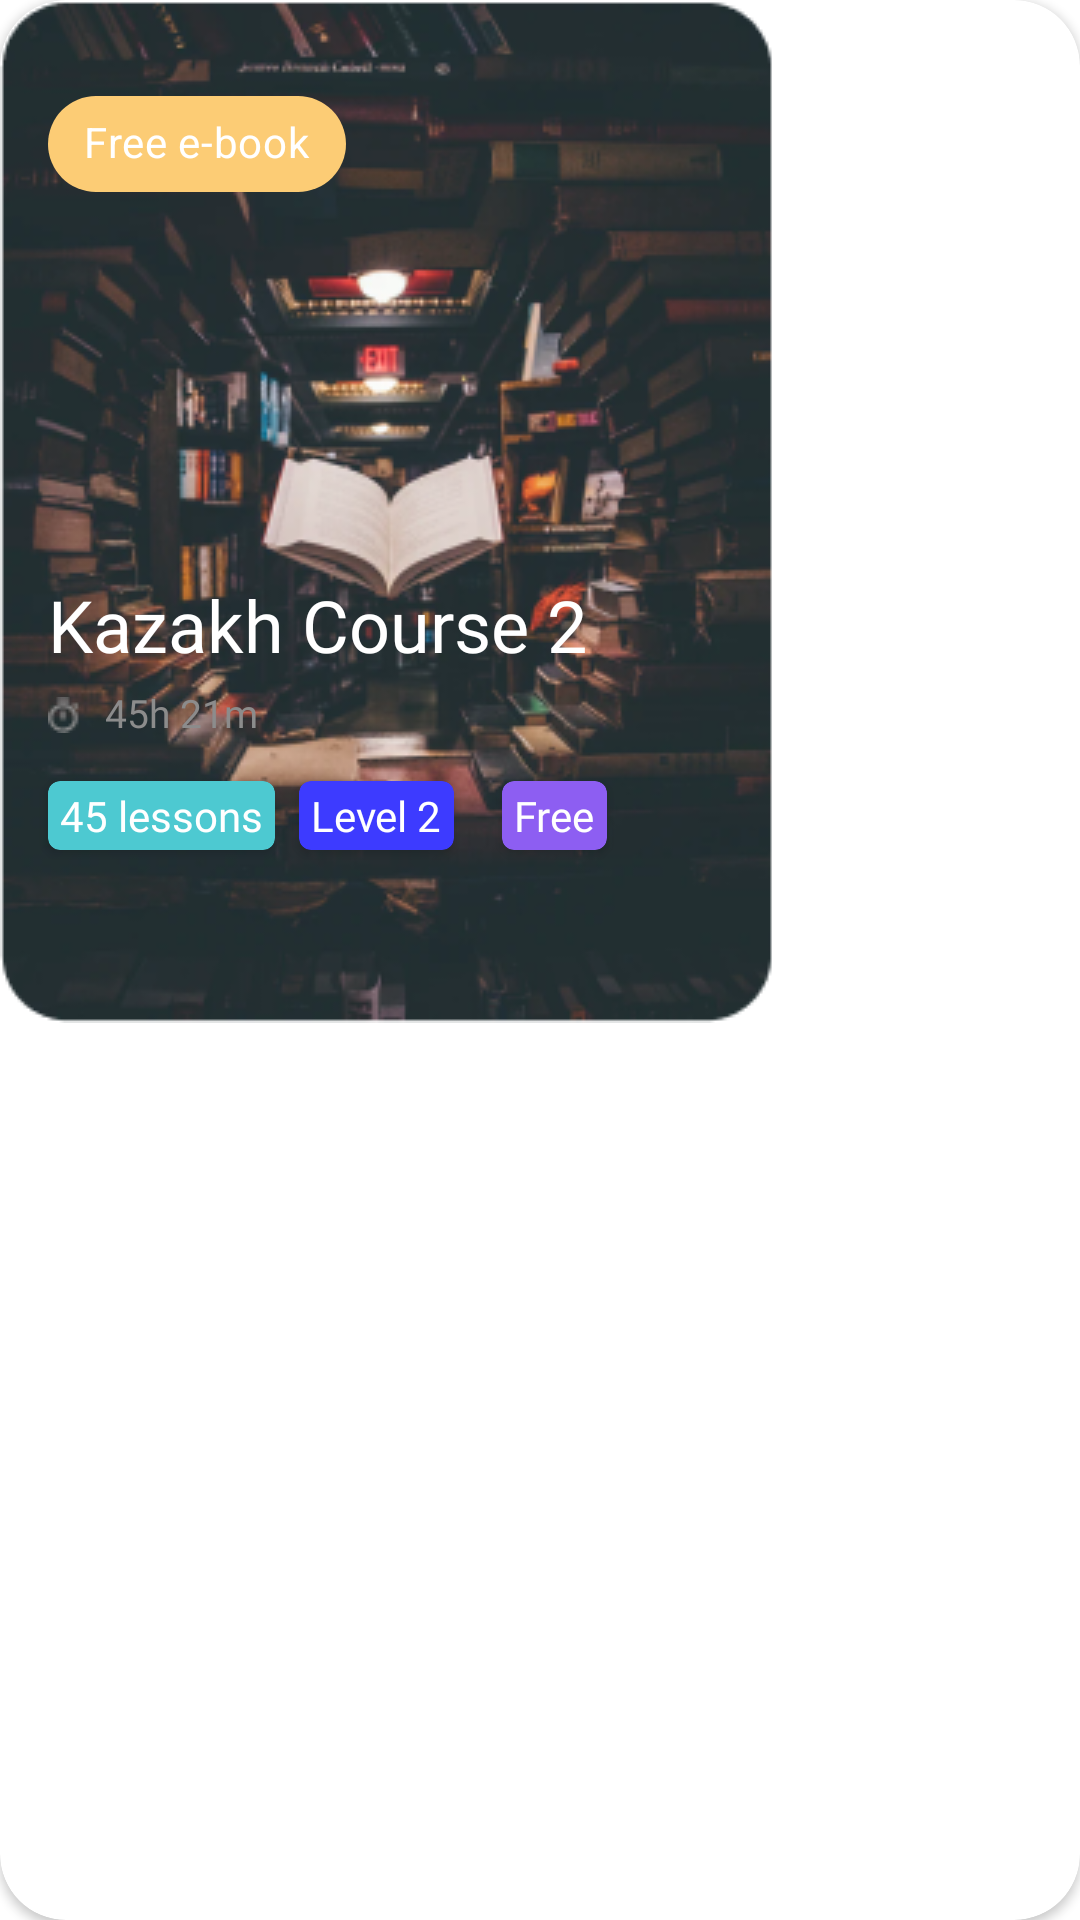

Icon click points for this 1080×1920 phone screenshot, format (x,y):
stopwatch: (64,715)
